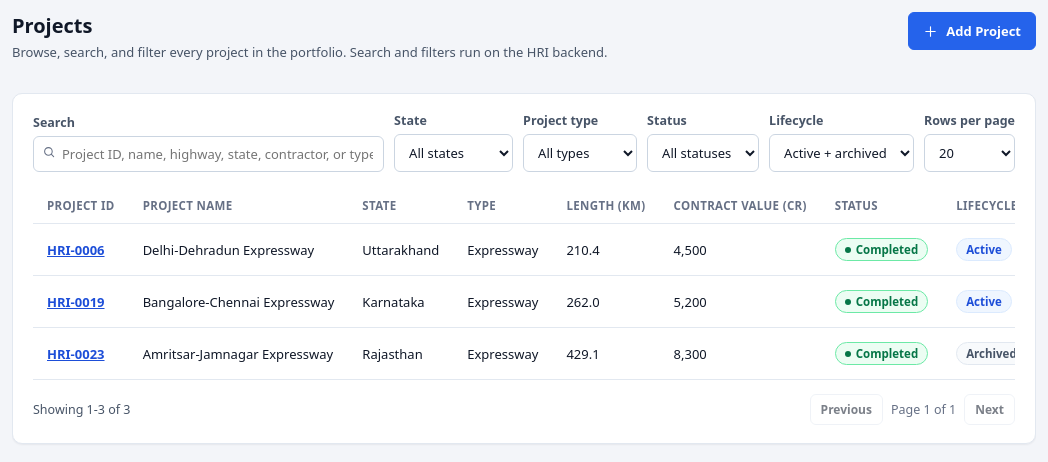
it: Projects page › clears the search and re-requests the unfiltered listing
Expected: the link "HRI-0006" is shown, [47,240,104,258]
Type "Bangalore" into the field labelled "Search" at (209, 154), box [33,136,384,172]
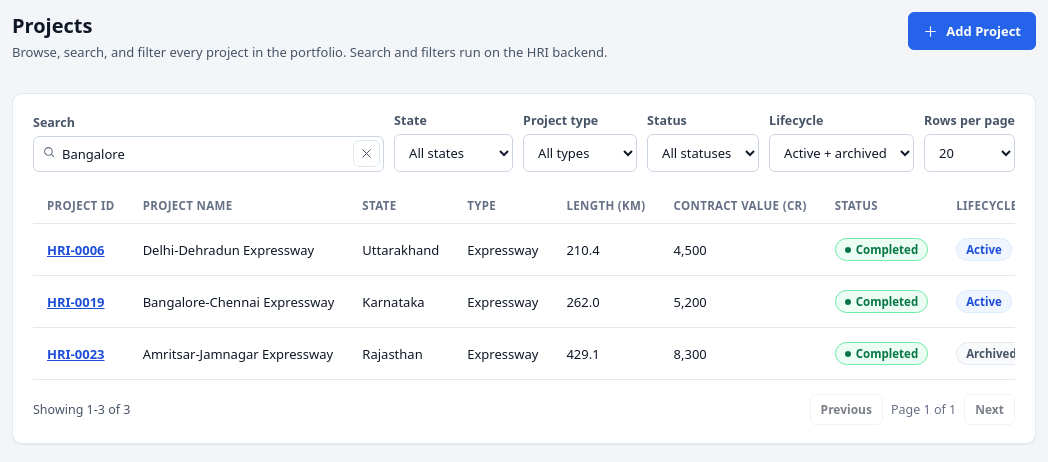
Click the button named "Clear search" at (367, 154), box [353,140,380,167]
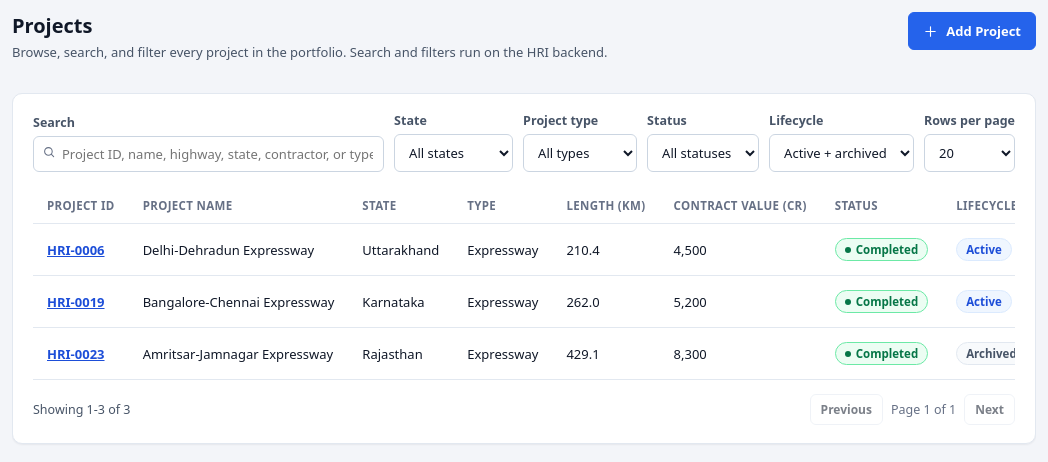
Expected: the field labelled "Search" is empty, [33,136,384,172]
